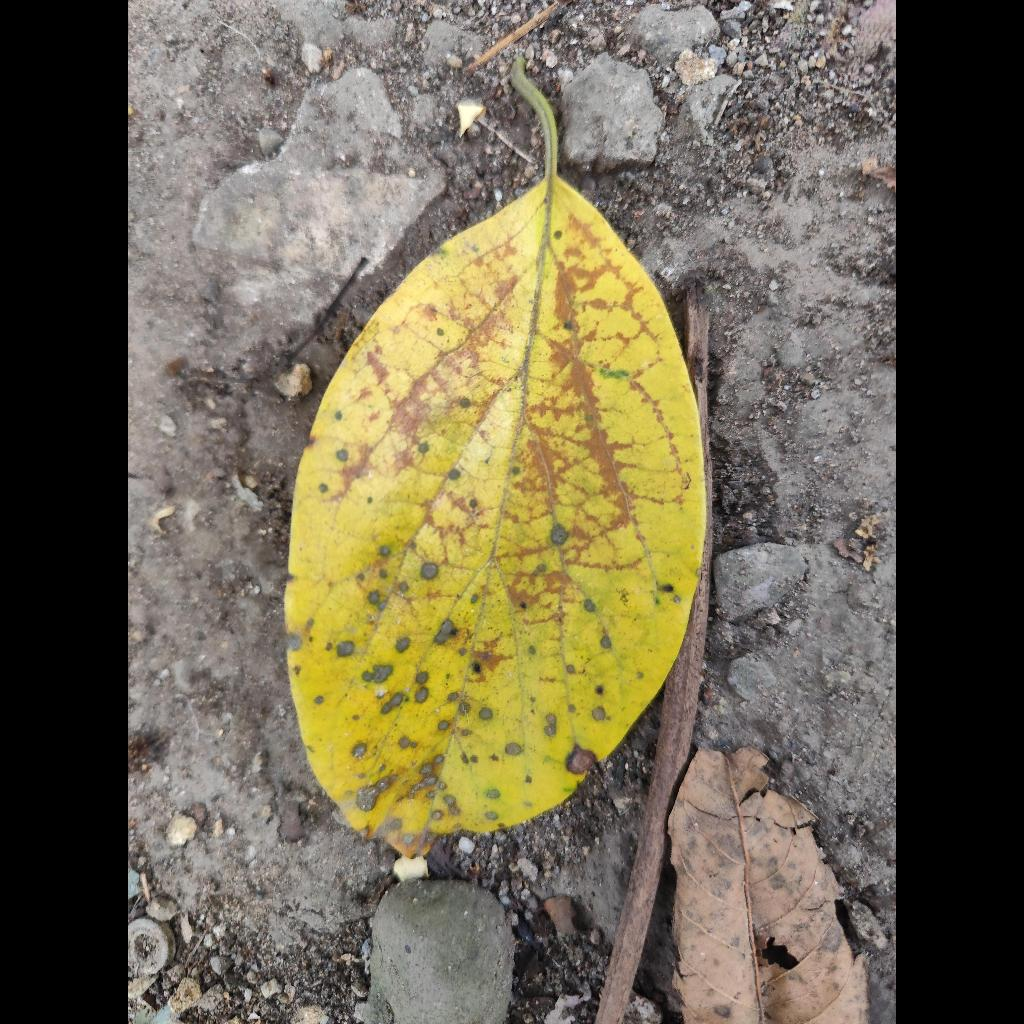nutrient_deficiency: (286, 75, 705, 858)
